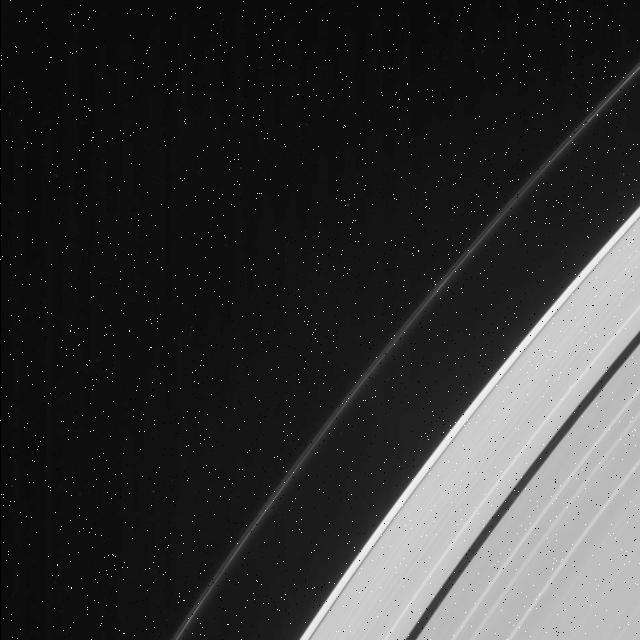Saturn: (151, 7, 640, 640)
